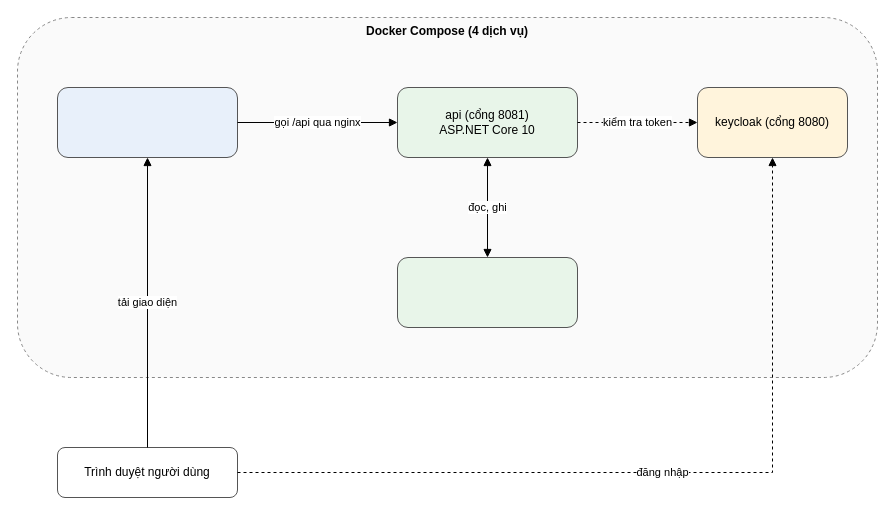
Some shapes in this 895 by 515 pixel diagram are drawn without their labels. The centre of each missing label's shape, as x and y in pixels:
postgres (cổng 5432) PostgreSQL 18: the point at 487,292
web (cổng 3000) nginx + React: the point at 147,122
